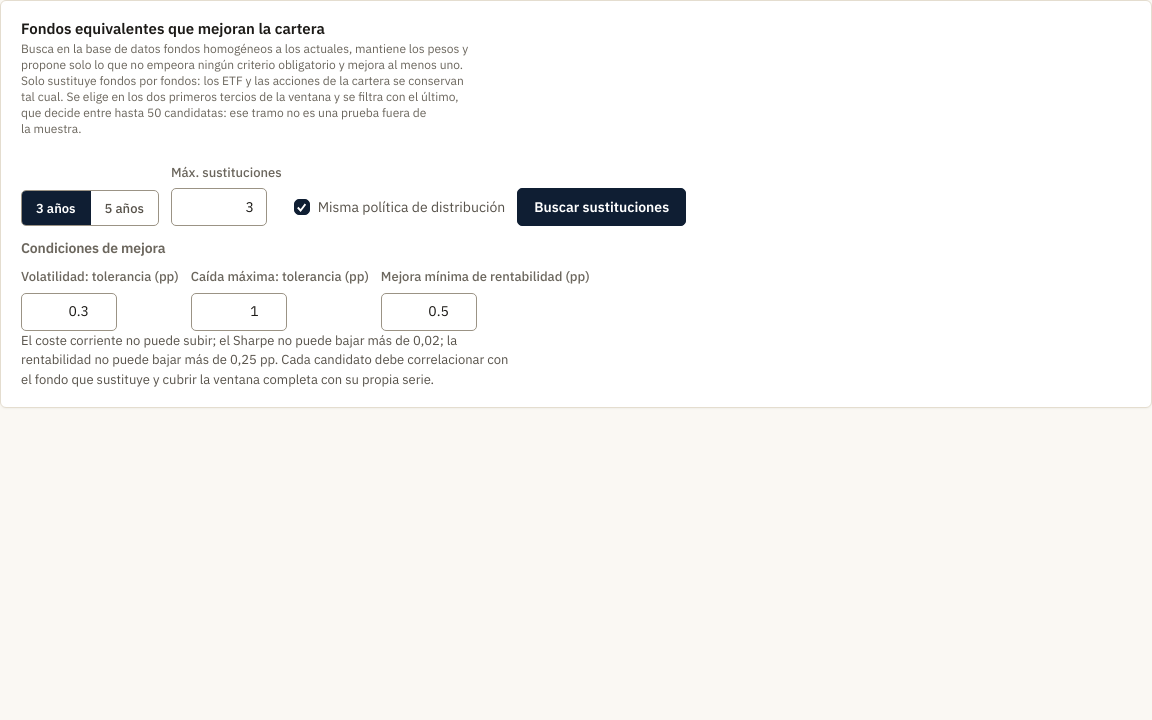
Test: «Mejorar cartera»: mejora y empeora, en verde y rojo (G9) › cada diferencia, en el color de su sentido, con el signo escrito de siempre
The image size is (1152, 720).
Click the button "Buscar sustituciones" at [602, 207], box top-left (517, 188), bottom-right (686, 226)
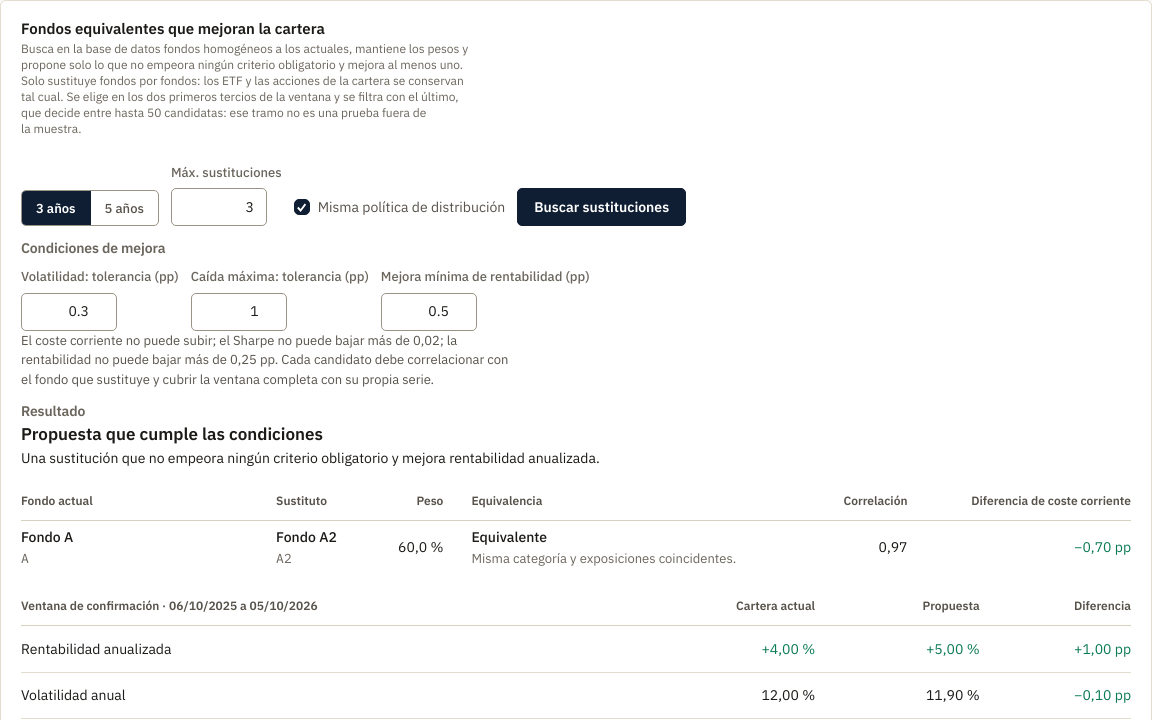
Check: the text "−0,70 pp" is shown, box top-left (1074, 538), bottom-right (1131, 556)
